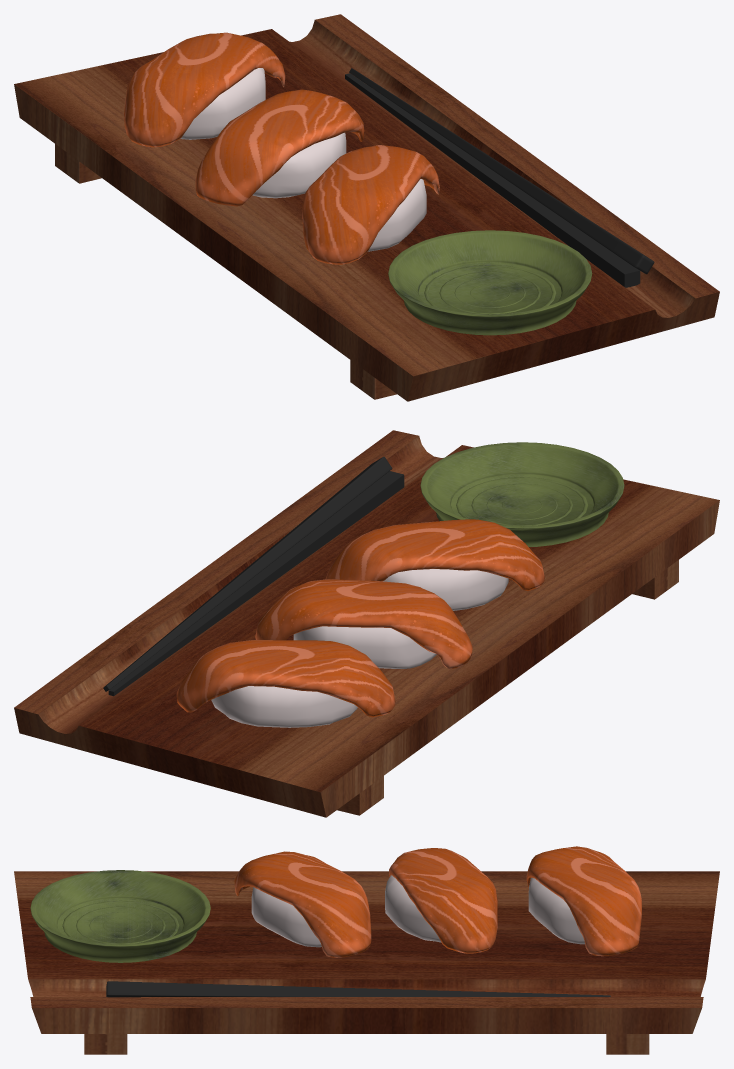
3 views of the same model, one above another, from view 1: azimuth 30°, elevation 25°; view 2: azimuth 150°, elevation 25°; view 3: azimuth 270°, elevation 25° (orthographic). The views are drawn at different scales.
Parts seen in each view (by area): view 1: Table, Bowl, Sushi_2, Sushi_3, Sushi_1, Chop_1, Chop_2, Rice_Ball_2, Rice_Ball_3, Rice_Ball_1; view 2: Table, Bowl, Sushi_3, Sushi_2, Sushi_1, Chop_1, Rice_Ball_3, Chop_2, Rice_Ball_2, Rice_Ball_1; view 3: Table, Bowl, Sushi_1, Sushi_3, Sushi_2, Chop_2, Rice_Ball_1, Rice_Ball_3, Rice_Ball_2.
Part boxes in pixels (left/top/right/bottom): Table: left=14, top=14, right=719, bottom=401; Bowl: left=388, top=230, right=592, bottom=335; Sushi_2: left=195, top=89, right=364, bottom=206; Sushi_3: left=124, top=32, right=285, bottom=147; Sushi_1: left=302, top=145, right=439, bottom=264; Chop_1: left=345, top=73, right=640, bottom=287; Chop_2: left=349, top=68, right=654, bottom=274; Rice_Ball_2: left=252, top=132, right=346, bottom=198; Rice_Ball_3: left=180, top=68, right=265, bottom=139; Rice_Ball_1: left=368, top=179, right=426, bottom=251; Table: left=14, top=430, right=719, bottom=817; Bowl: left=420, top=442, right=624, bottom=546; Sushi_3: left=176, top=640, right=395, bottom=717; Sushi_2: left=255, top=579, right=472, bottom=668; Sushi_1: left=325, top=519, right=544, bottom=590; Chop_1: left=108, top=471, right=404, bottom=696; Rice_Ball_3: left=211, top=686, right=357, bottom=727; Chop_2: left=103, top=456, right=392, bottom=691; Rice_Ball_2: left=293, top=626, right=436, bottom=668; Rice_Ball_1: left=383, top=569, right=508, bottom=610; Table: left=14, top=871, right=719, bottom=1054; Bowl: left=30, top=870, right=210, bottom=962; Sushi_1: left=234, top=851, right=371, bottom=957; Sushi_3: left=526, top=846, right=641, bottom=956; Sushi_2: left=389, top=848, right=497, bottom=953; Chop_2: left=106, top=981, right=610, bottom=997; Rice_Ball_1: left=251, top=887, right=321, bottom=947; Rice_Ball_3: left=528, top=877, right=584, bottom=944; Rice_Ball_2: left=385, top=875, right=441, bottom=942.
Bounding box in the file's own units: 148 × 49.21 × 323.
5 materials, 4 textured.
